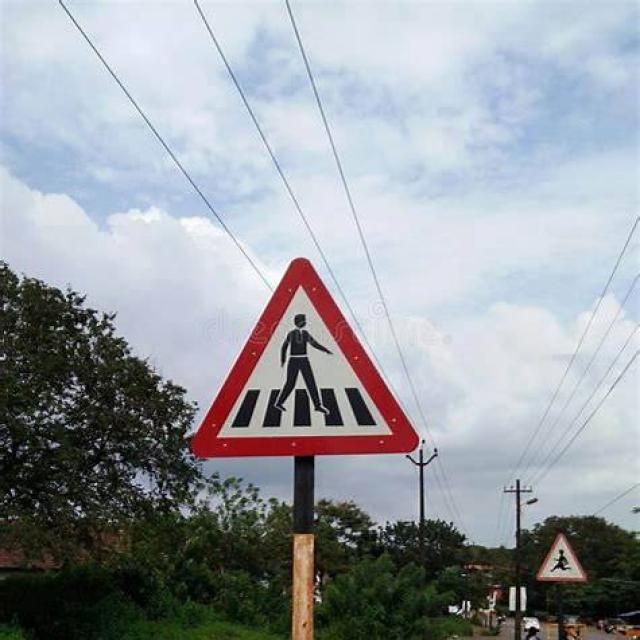Pedestrain_crossing: (185, 254, 433, 456)
